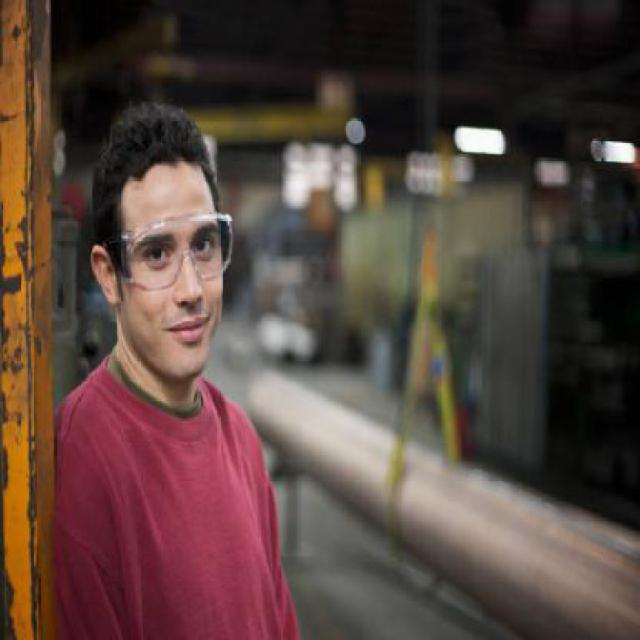glass: (103, 207, 243, 292)
head: (78, 89, 252, 392)
person: (24, 87, 313, 635)
